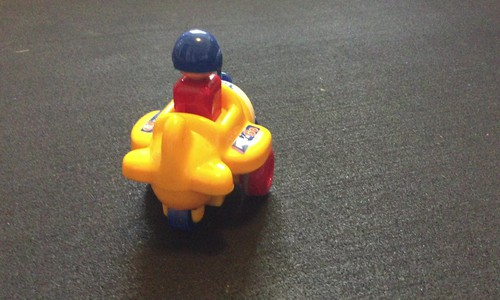toy: (116, 31, 287, 237)
